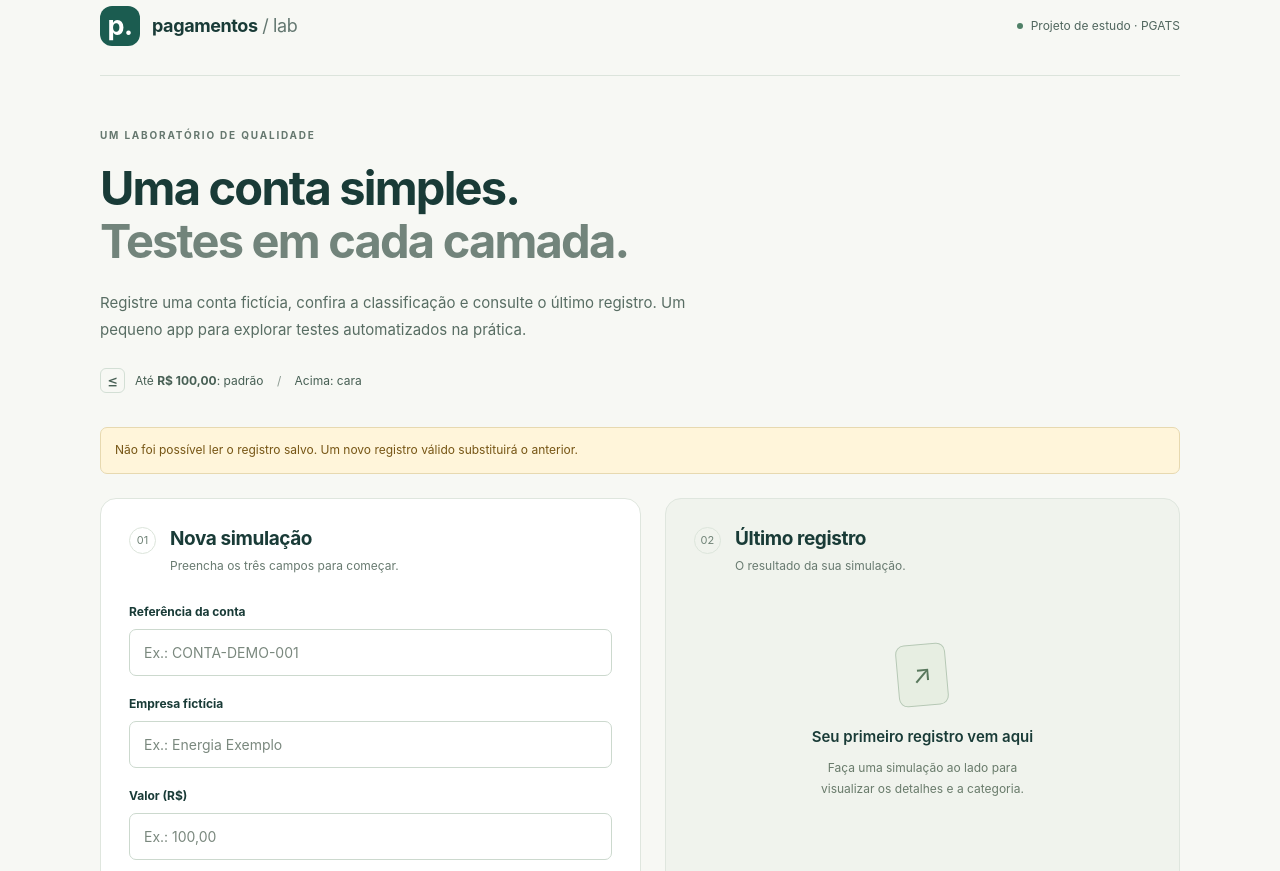
Test: Componente: integração local do App › recupera de JSON corrompido sem apagar dados na abertura
The image size is (1280, 871).
Check: the text "Não foi possível ler o registro salvo" is shown, box [115,442,578,457]
Type "DEMO-001" into the field with id "codigoBarras" at {"x": 371, "y": 653}, box [129,629,612,676]
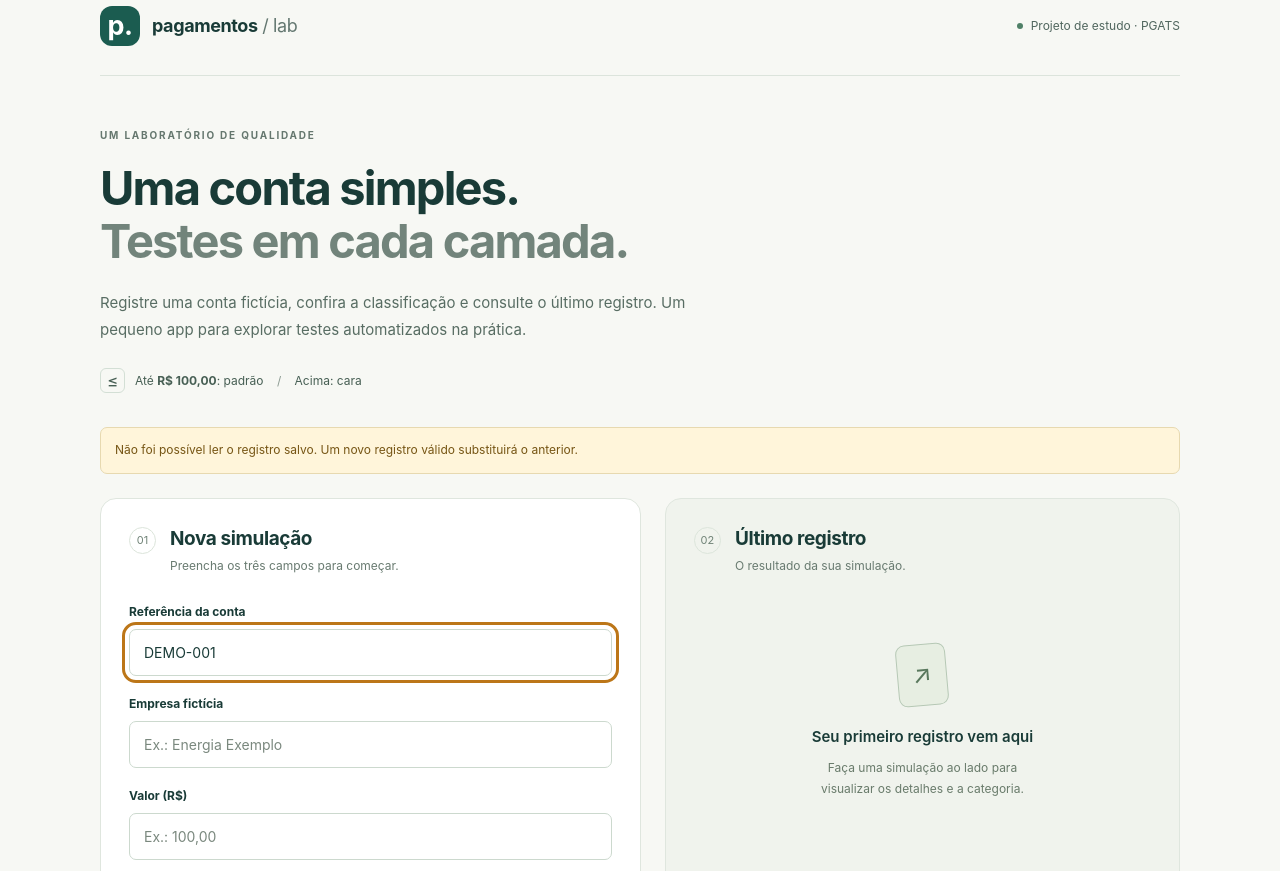
Type "Energia Exemplo" into the field with id "empresa" at {"x": 371, "y": 745}, box [129,721,612,768]
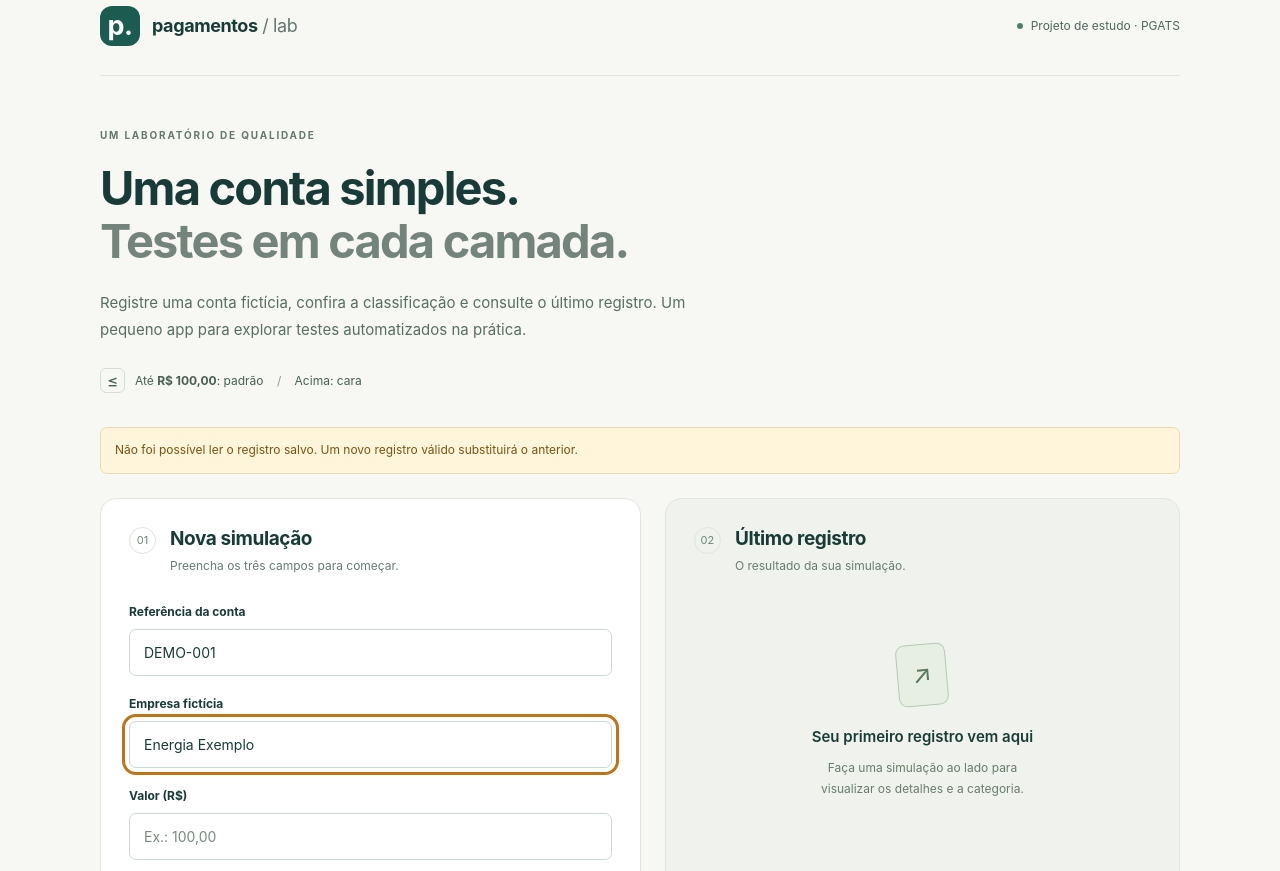
Type "100,00" into the field labelled "Valor (R$)" at {"x": 371, "y": 837}, box [129,813,612,860]
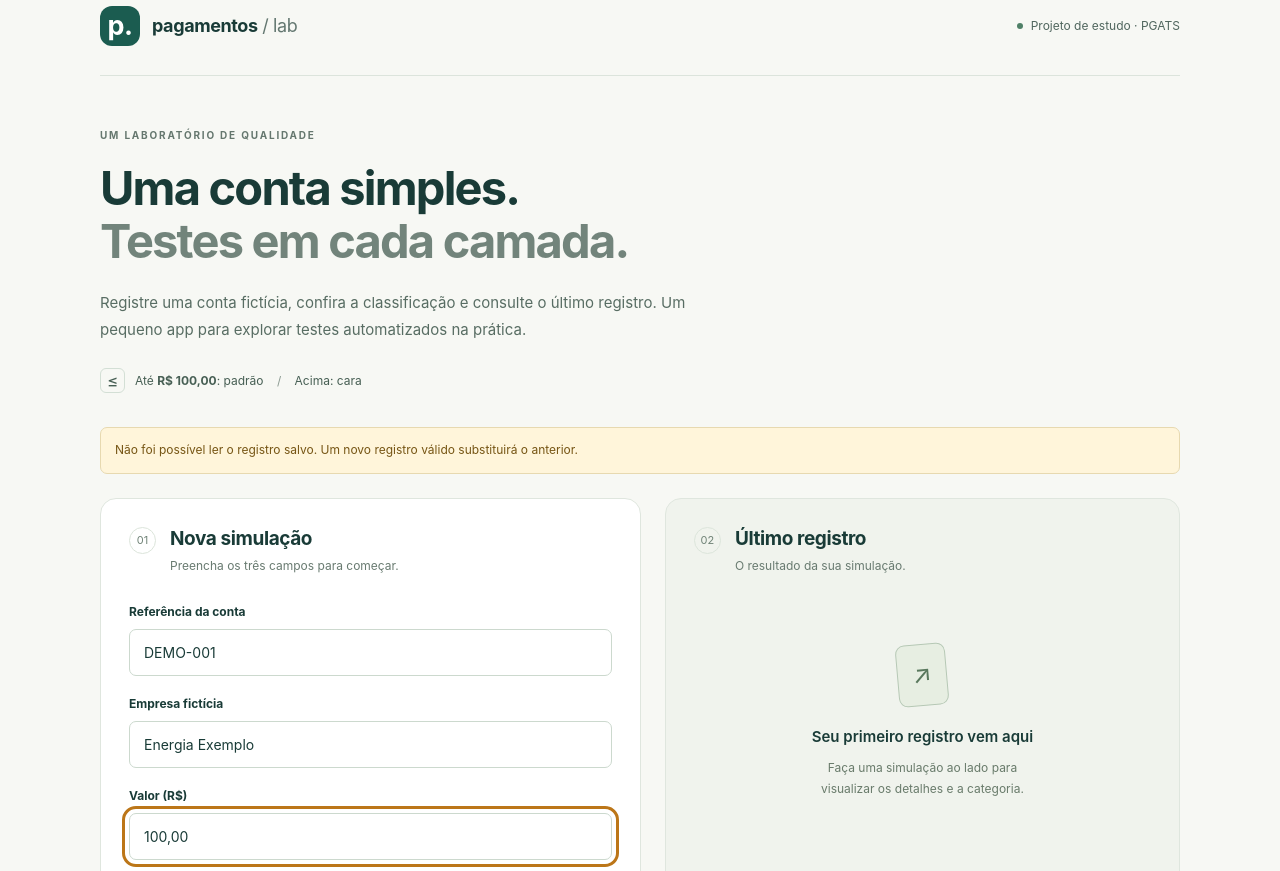
Scroll
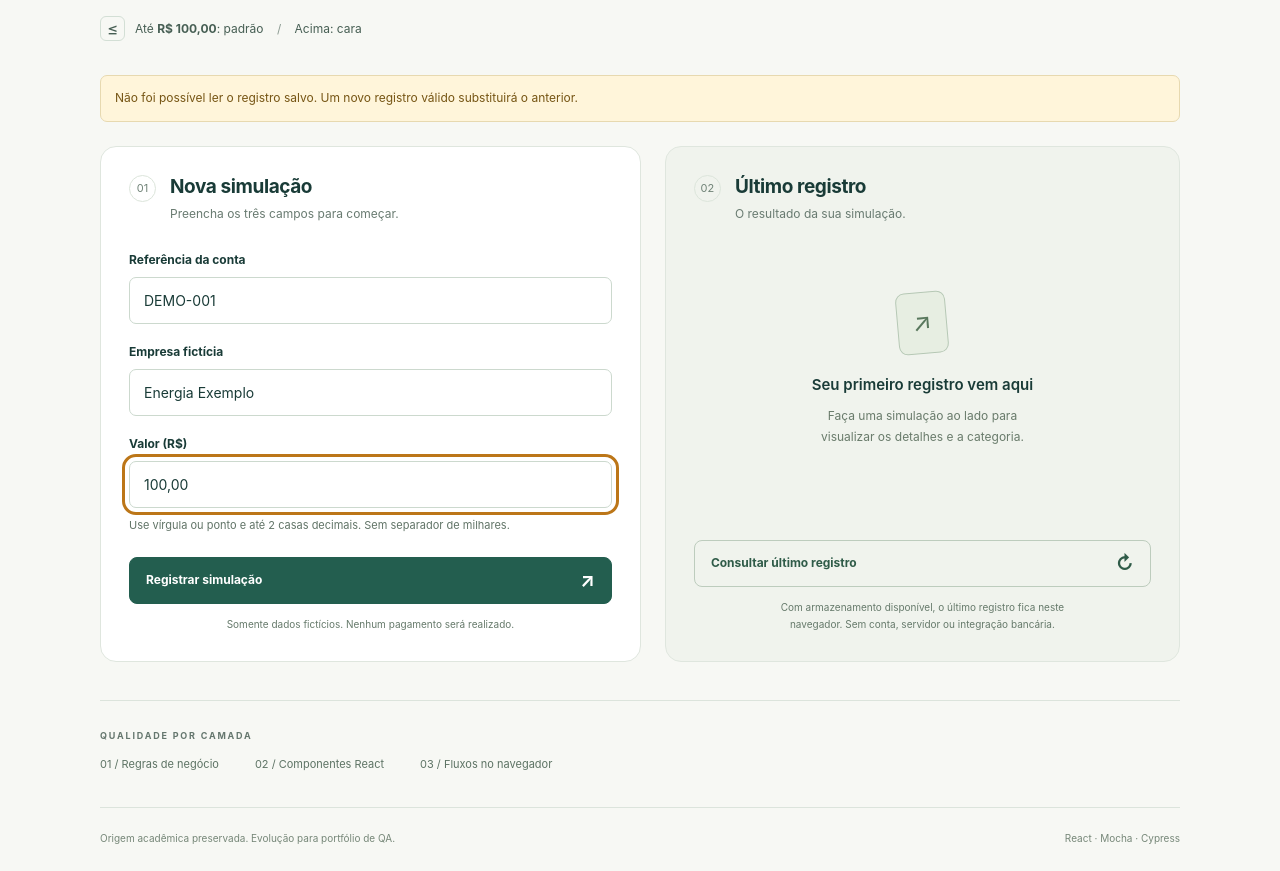
Click the button "Registrar simulação ↗" at {"x": 204, "y": 580}, box [129,557,612,604]
(page scrolled)
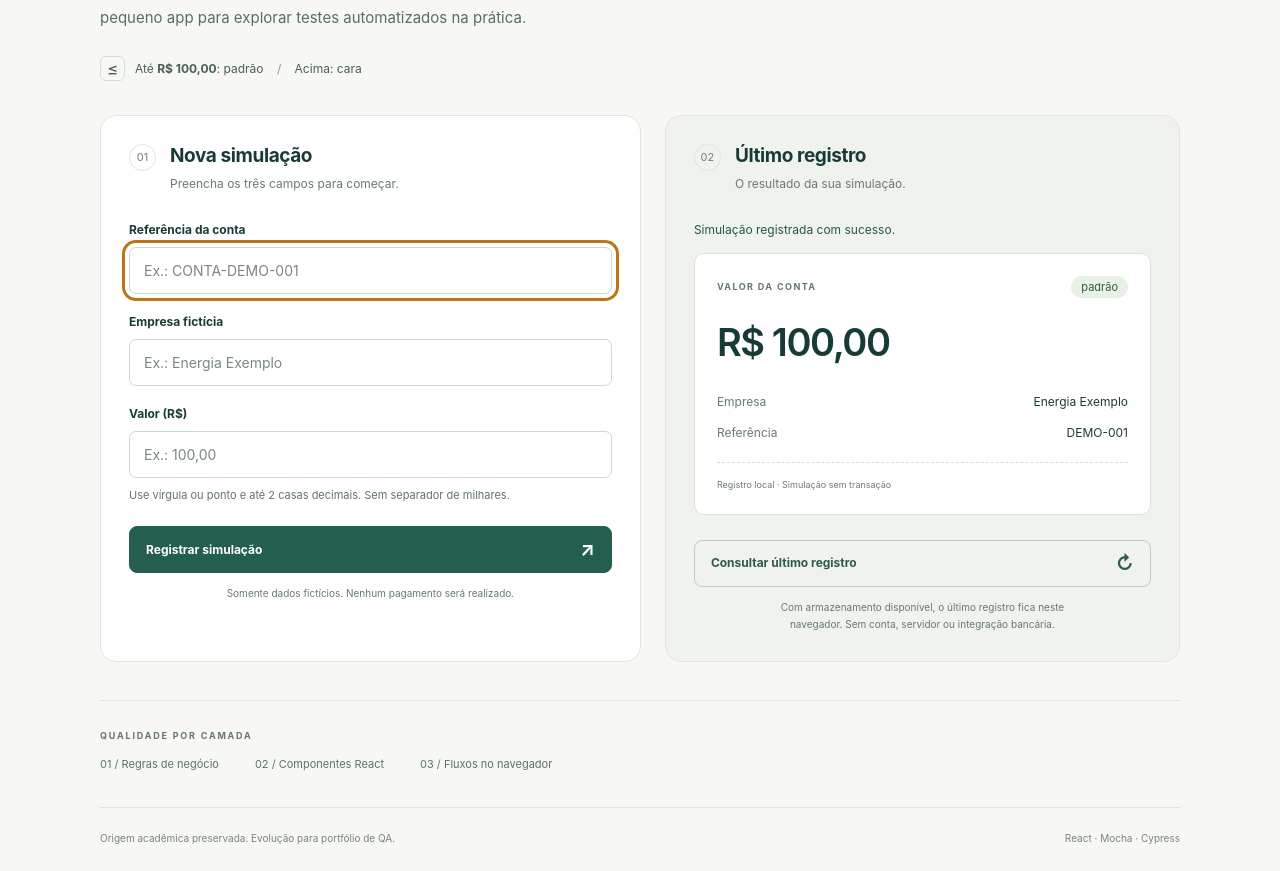
Check: the text with test id "ultimo-registro" reads "DEMO-001", box [1067,425,1128,440]
Check: the text "Não foi possível ler o registro salvo" is gone
